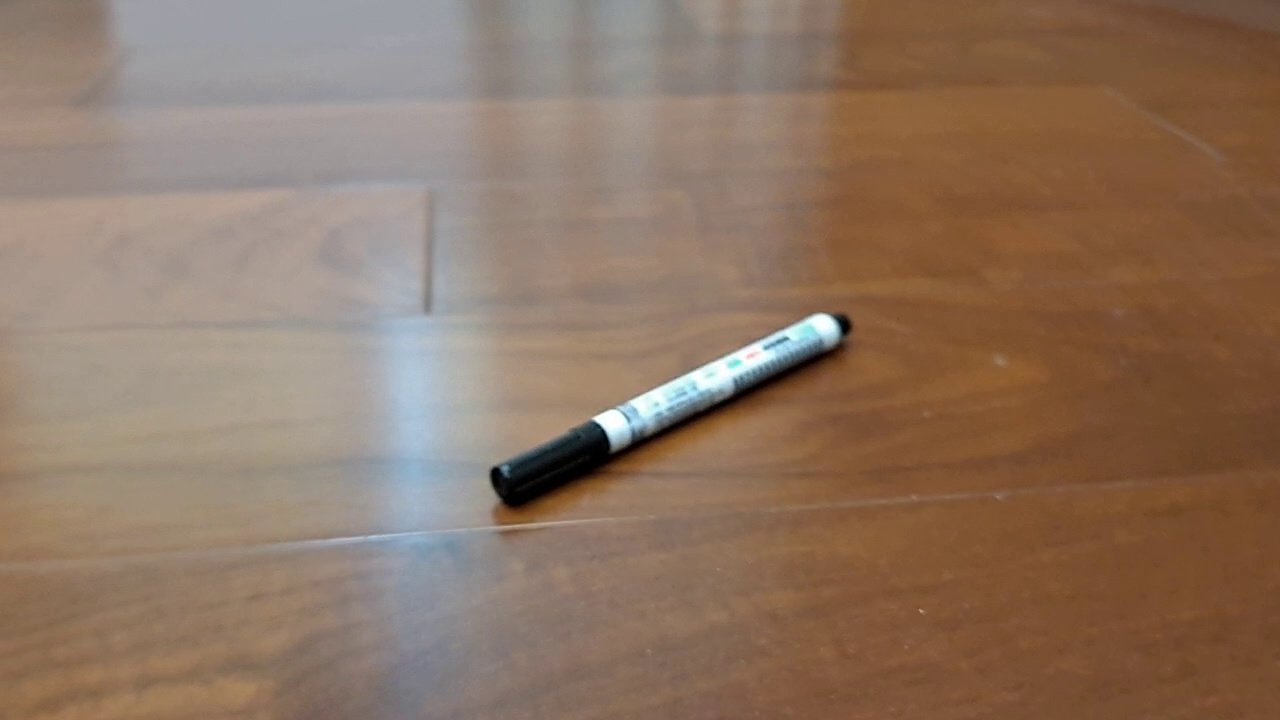pen: (489, 311, 852, 509)
